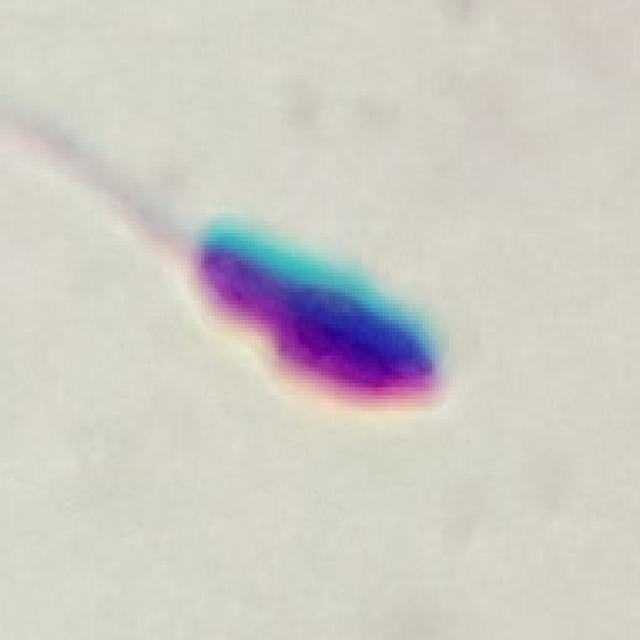abnormal sperm: (102, 98, 466, 437)
